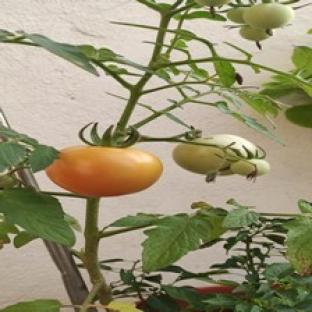Tomato: (46, 145, 162, 197), (173, 134, 259, 175), (243, 3, 293, 29), (230, 159, 270, 176), (240, 26, 270, 41), (226, 7, 246, 23), (0, 175, 18, 189)
